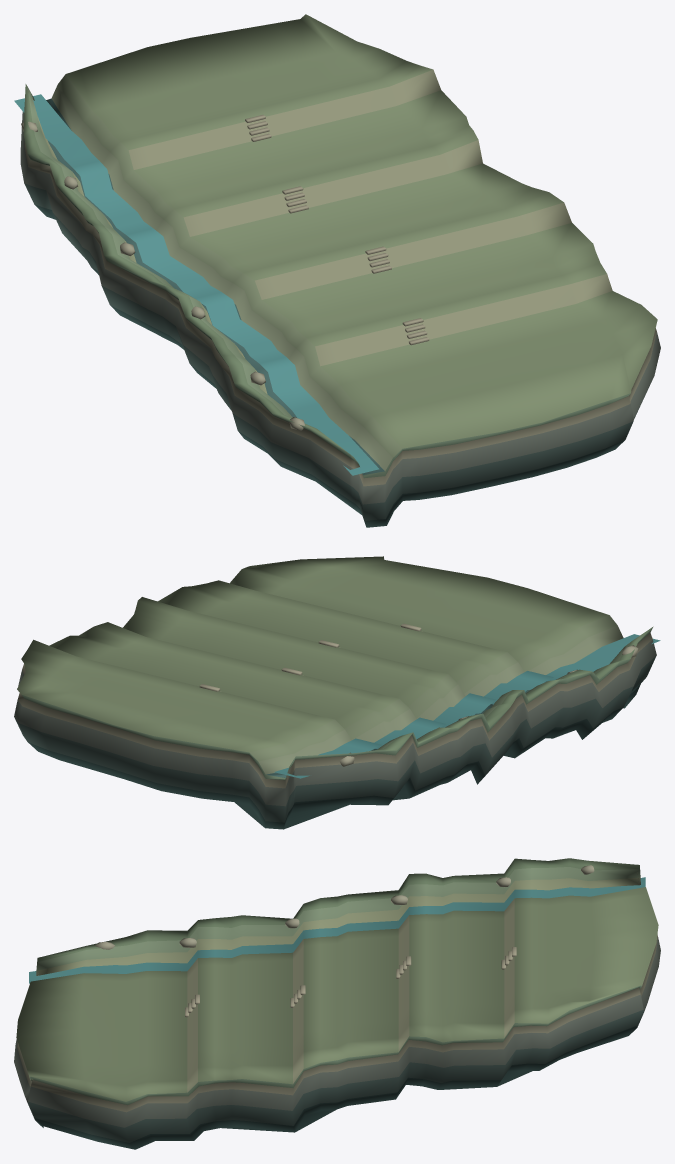
File: world-terrain.glb
3 renders of one model, top to bottom at view 1: azimuth 30°, elevation 25°; view 2: azimuth 150°, elevation 25°; view 3: azimuth 270°, elevation 25°, orthographic. The views are drawn at different scales.
Visible parts, largest first — view 1: world-solid, world-water; view 2: world-solid, world-water; view 3: world-solid, world-water.
Boxes of the visible parts, x1,y1,x2,y2 form: world-solid: (20,14,660,527); world-water: (14,94,379,475); world-solid: (14,556,656,829); world-water: (274,634,660,778); world-solid: (14,858,660,1149); world-water: (29,877,645,983).
Size of the model in its own units: 19.79 by 9.19 by 30.64.
